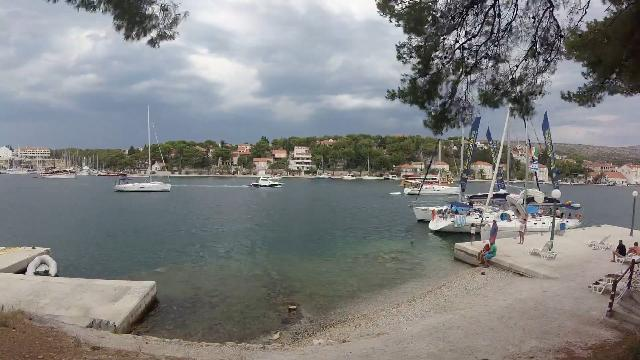Freighter: (38, 165, 78, 181)
Sailboat: (109, 173, 175, 195), (401, 175, 464, 197)
speedboat: (246, 172, 288, 190)
